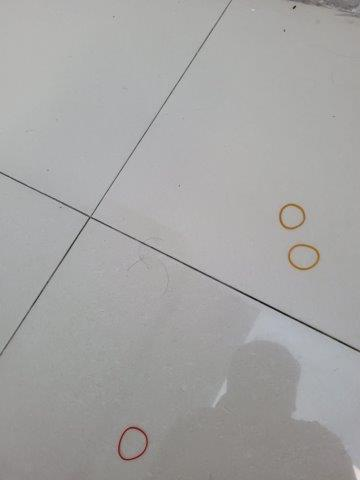karet: (117, 426, 148, 461), (287, 245, 320, 272), (279, 203, 309, 232)
